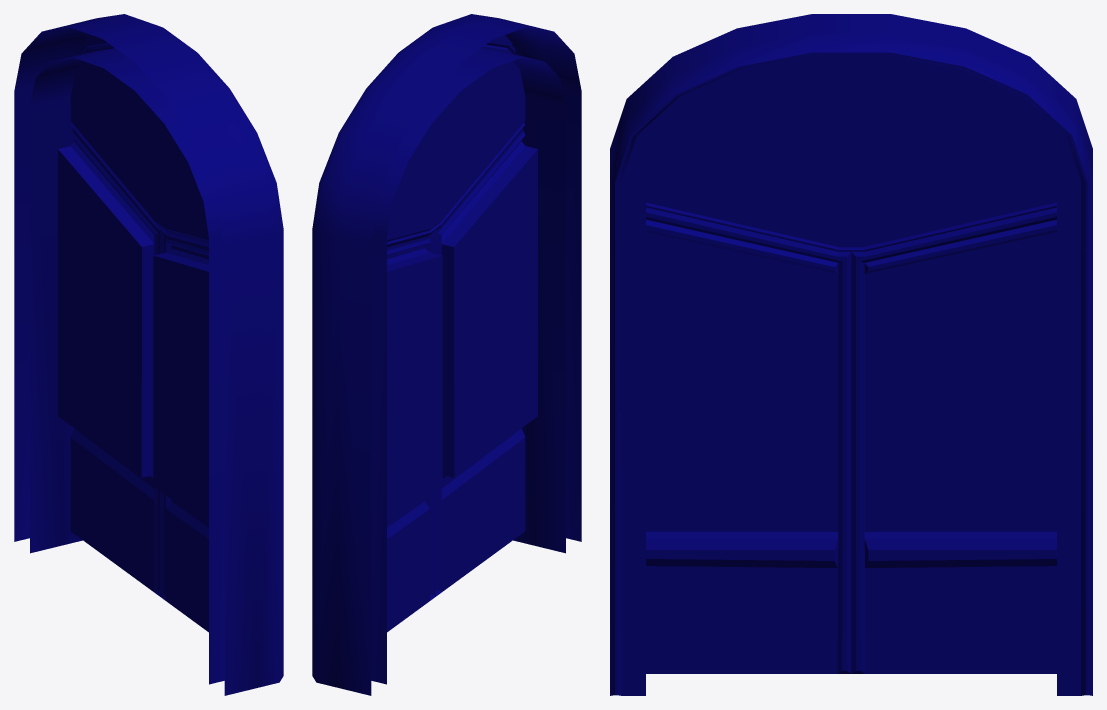
3 renders of one model, left to right at view 1: azimuth 30°, elevation 25°; view 2: azimuth 150°, elevation 25°; view 3: azimuth 270°, elevation 25°, orthographic. The views are drawn at different scales.
Parts seen in each view (by area): view 1: Object007; view 2: Object007; view 3: Object007.
Part boxes in pixels (x1,y1,x2,y2): Object007: [14, 14, 283, 695]; Object007: [312, 14, 581, 695]; Object007: [610, 14, 1092, 695].
Bounding box in the file's own units: 16.01 × 142 × 95.43.
